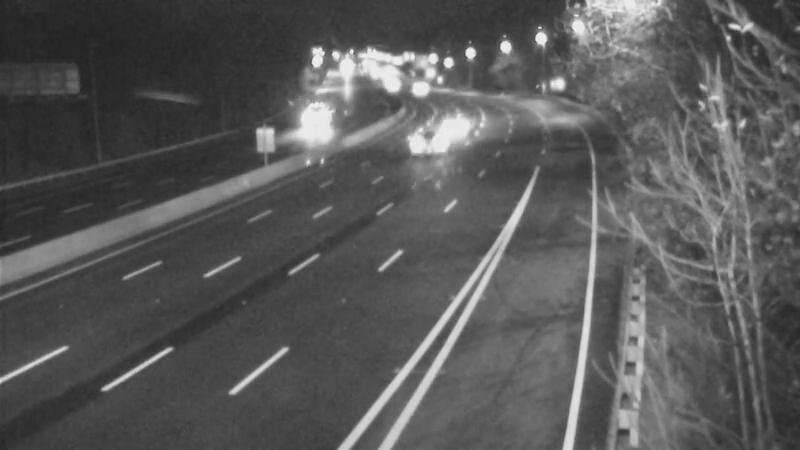vehicle: (389, 61, 439, 111), (432, 98, 482, 148), (403, 116, 453, 166), (285, 102, 335, 152)
